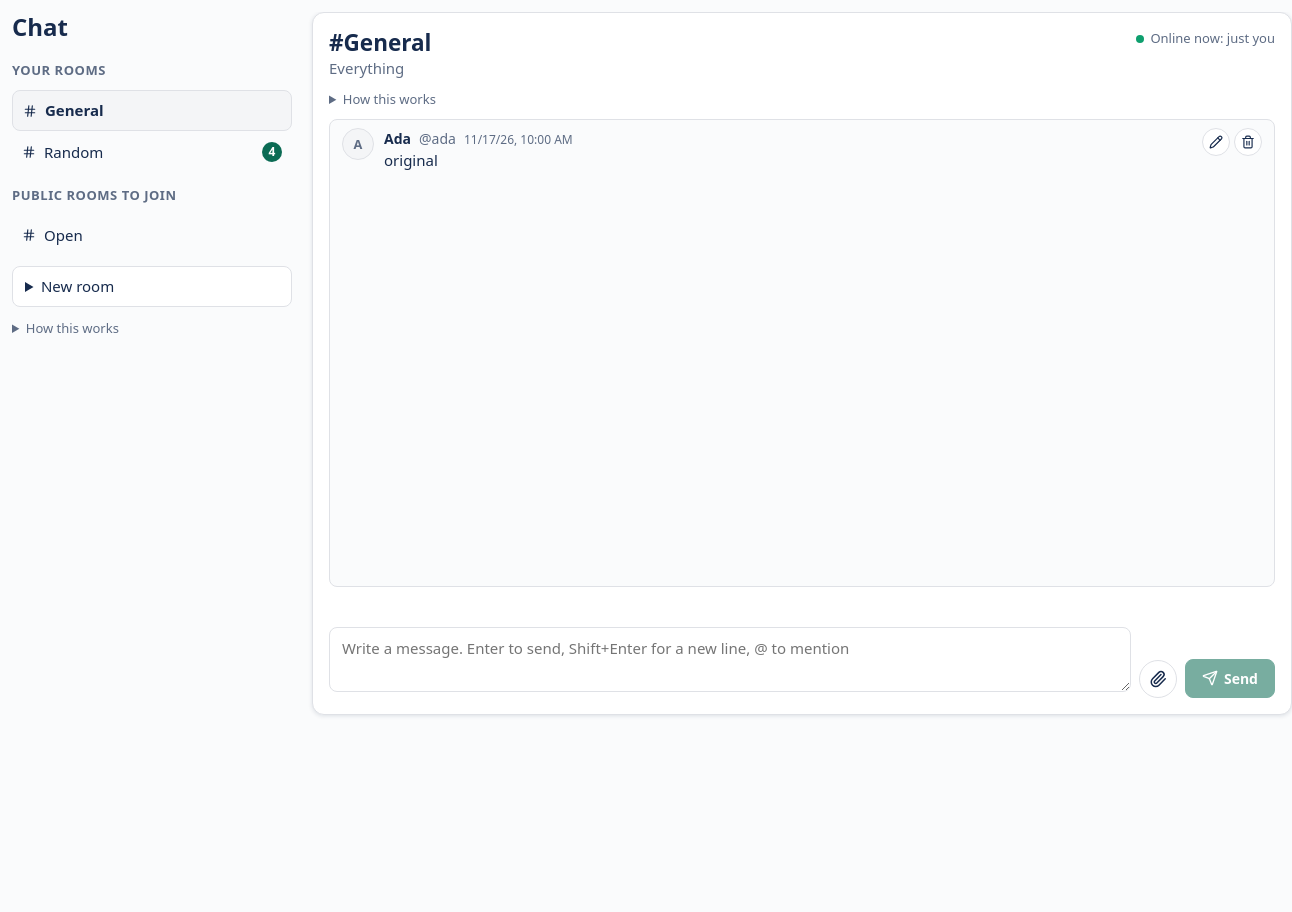
Test case: ChatPage: messages › edits my own message through update().eq(id) and delete removes it (focus returns to the box)
The width and height of the screenshot is (1292, 912).
Expected: the text "original" is shown, [384,150,438,170]
Click the button named "Edit your message" at coordinates (1216, 142), box [1202,128,1230,156]
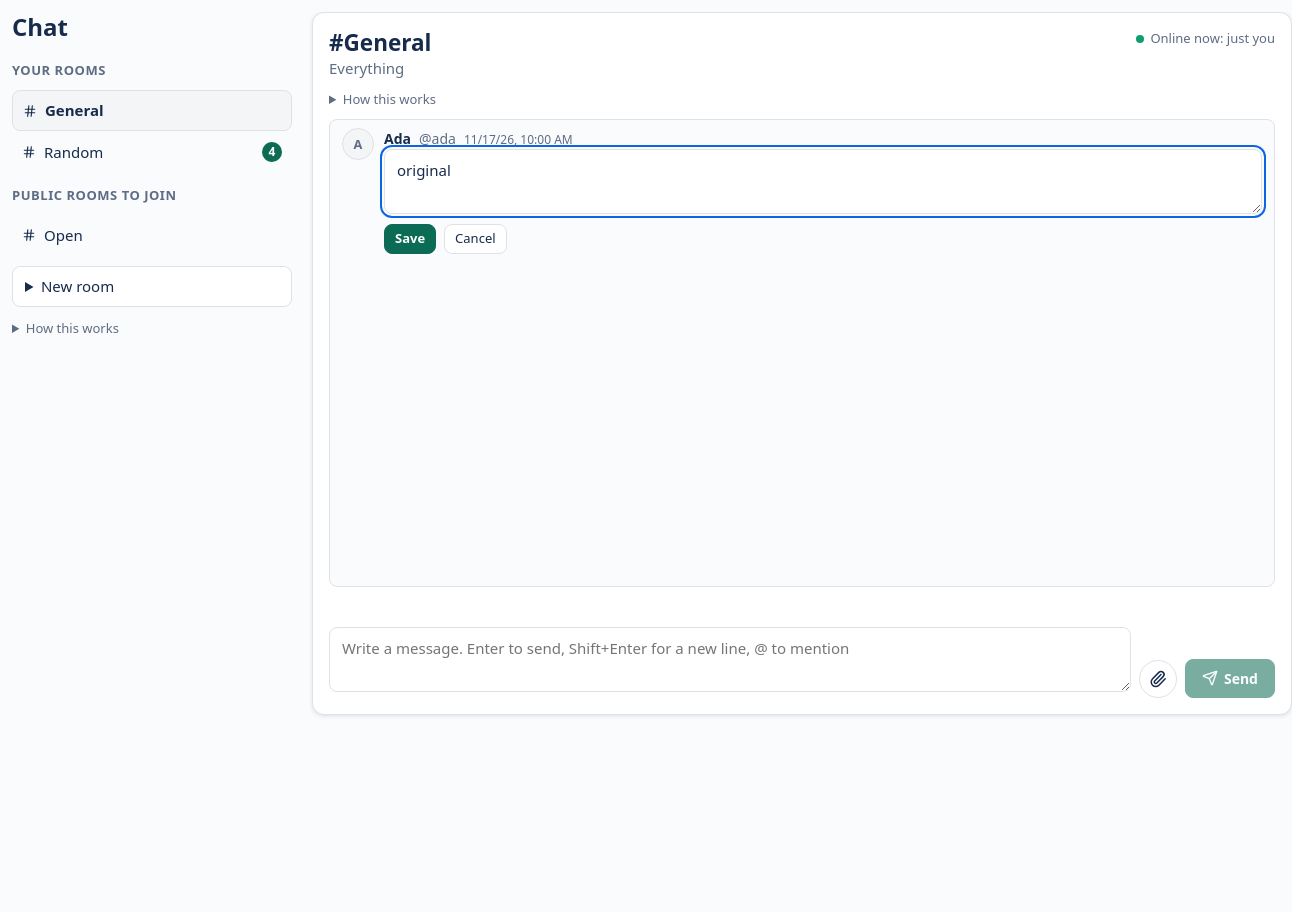
Replace the text in the text box named "Edit message" with "fixed" at coordinates (823, 182), box [384,149,1262,214]
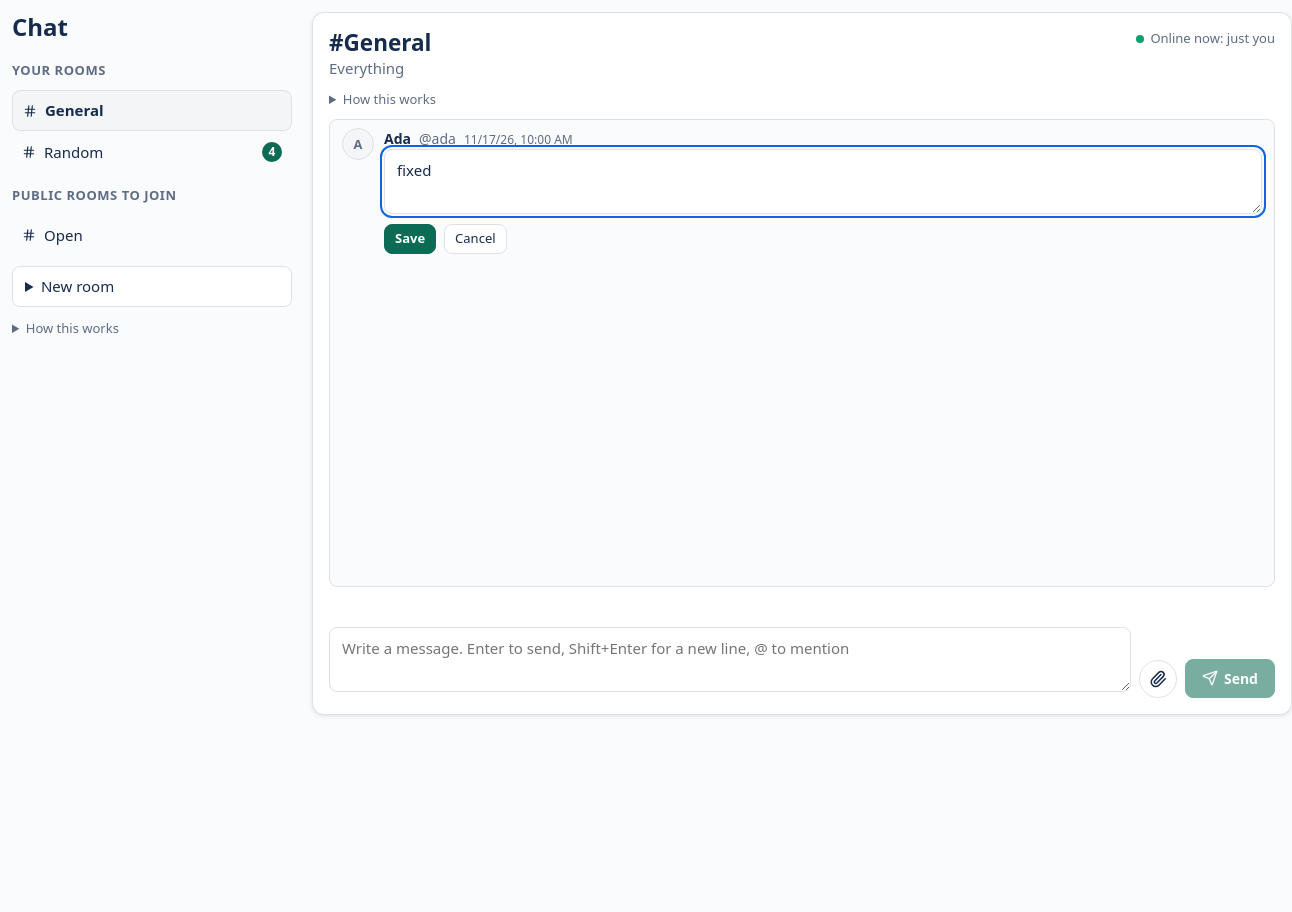
Click the button "Save" at coordinates (410, 239), box [384,224,436,254]
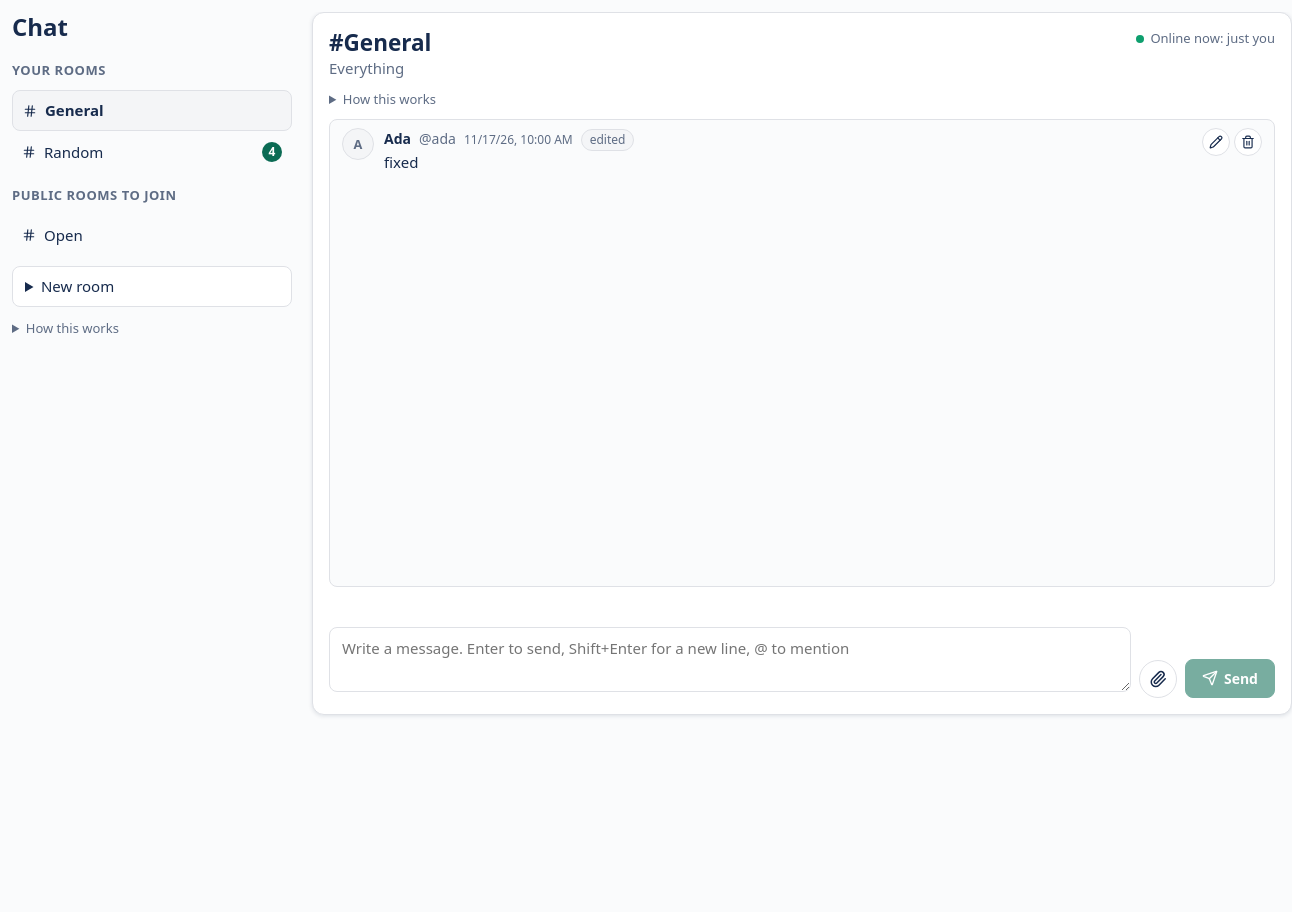
Expected: the text "fixed" is shown, [384,152,418,172]
Expected: the text "edited" is shown, [581,129,634,151]
Click the button named "Delete your message" at coordinates (1248, 142), box [1234,128,1262,156]
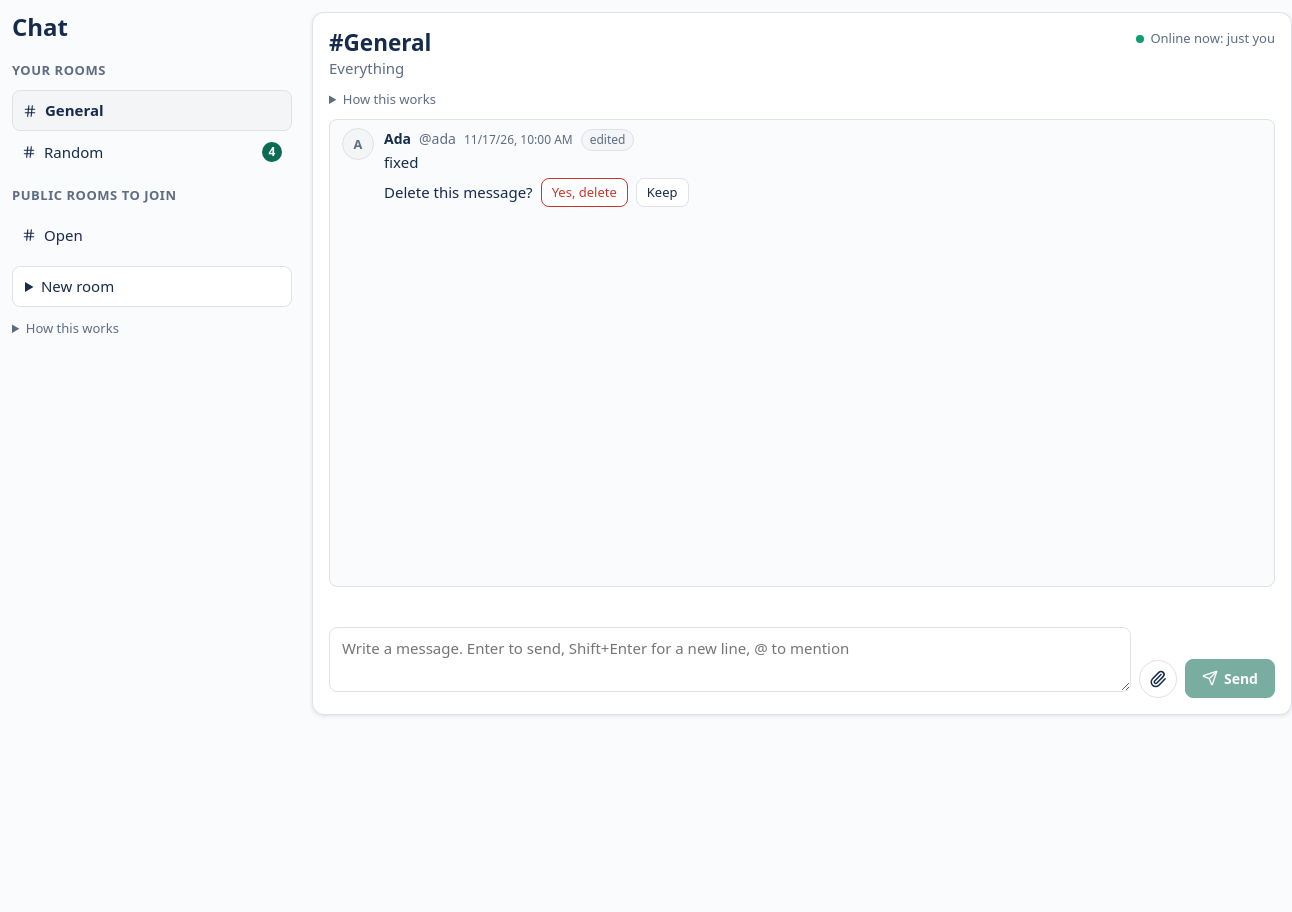
Click the button "Yes, delete" at coordinates (584, 192), box [541,178,628,207]
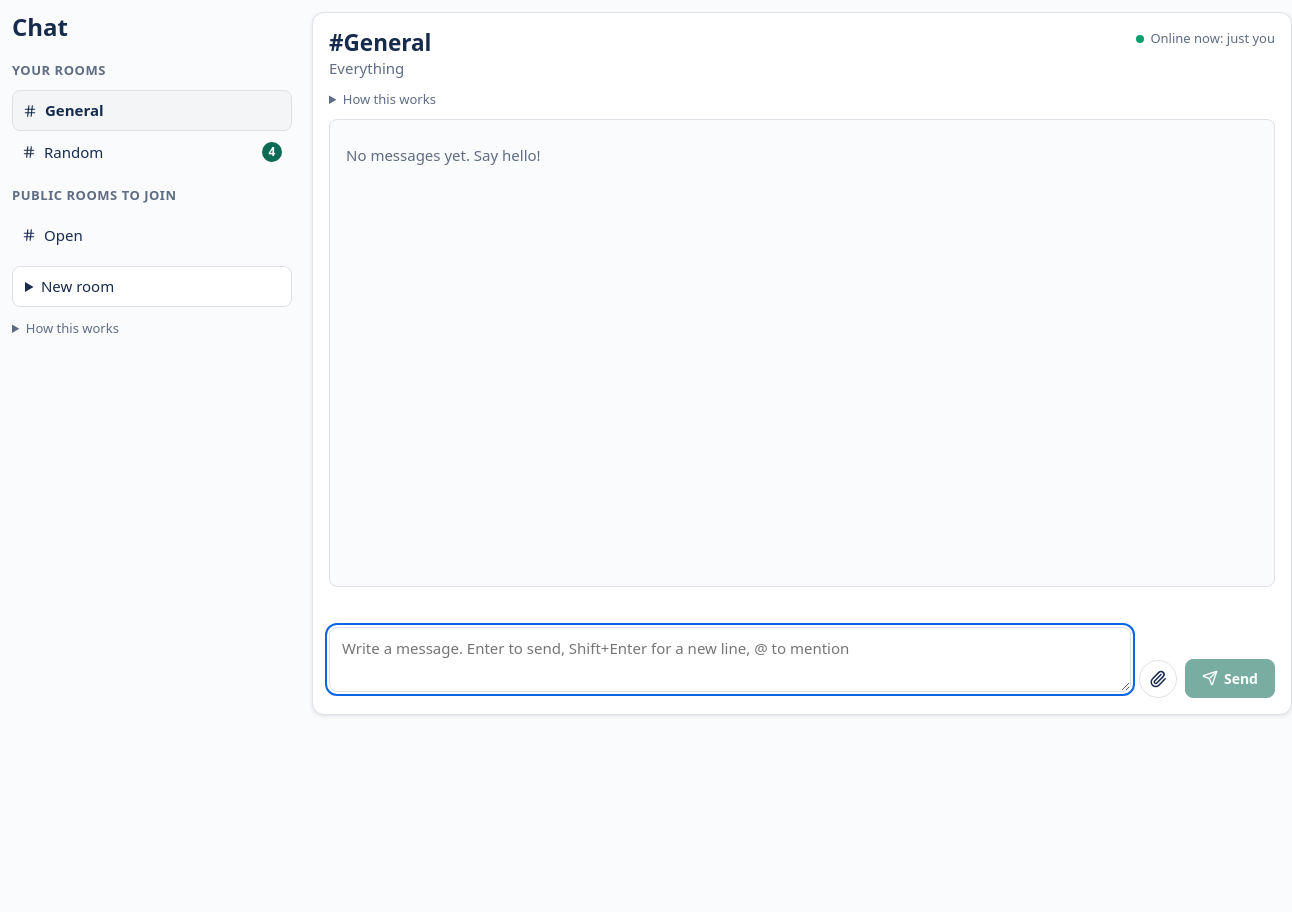
Expected: the text "fixed" is gone
